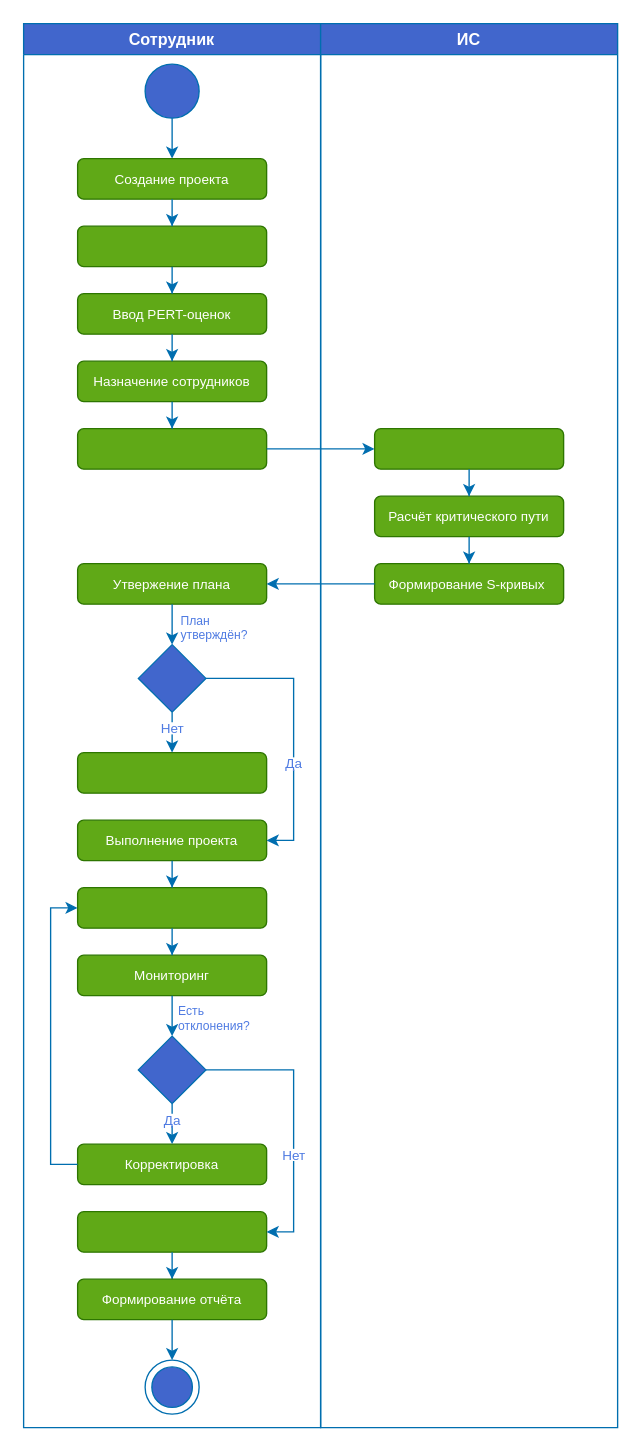
The diagram is 641 pixels wide and 1451 high, and some of its shapes have lost their labels. Each missing label, with the centre of its shape:
"Добавление задач" goes at pixel 171 246.
"Корректировка плана" goes at pixel 171 772.
"Продолжение работы" goes at pixel 171 1231.
"Расчёт PERT-оценок" goes at pixel 468 448.
"Фиксация прогресса" goes at pixel 171 907.
"Формирование плана" goes at pixel 171 448.
